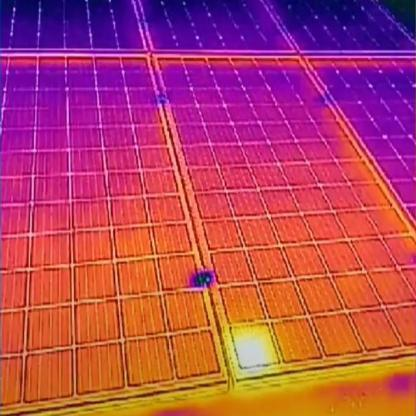anomaly: (225, 317, 285, 381)
